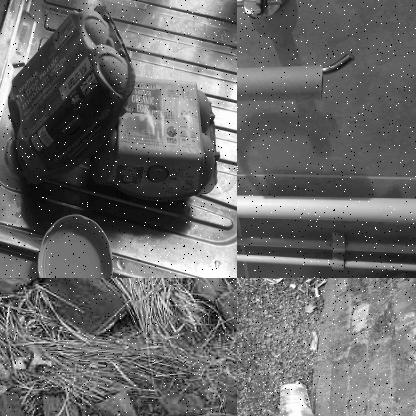cardboard: (7, 3, 132, 186), (128, 77, 218, 200), (237, 67, 323, 102)
metal: (36, 212, 113, 277)
plastic: (272, 379, 325, 415), (14, 354, 29, 380), (0, 374, 11, 398)
